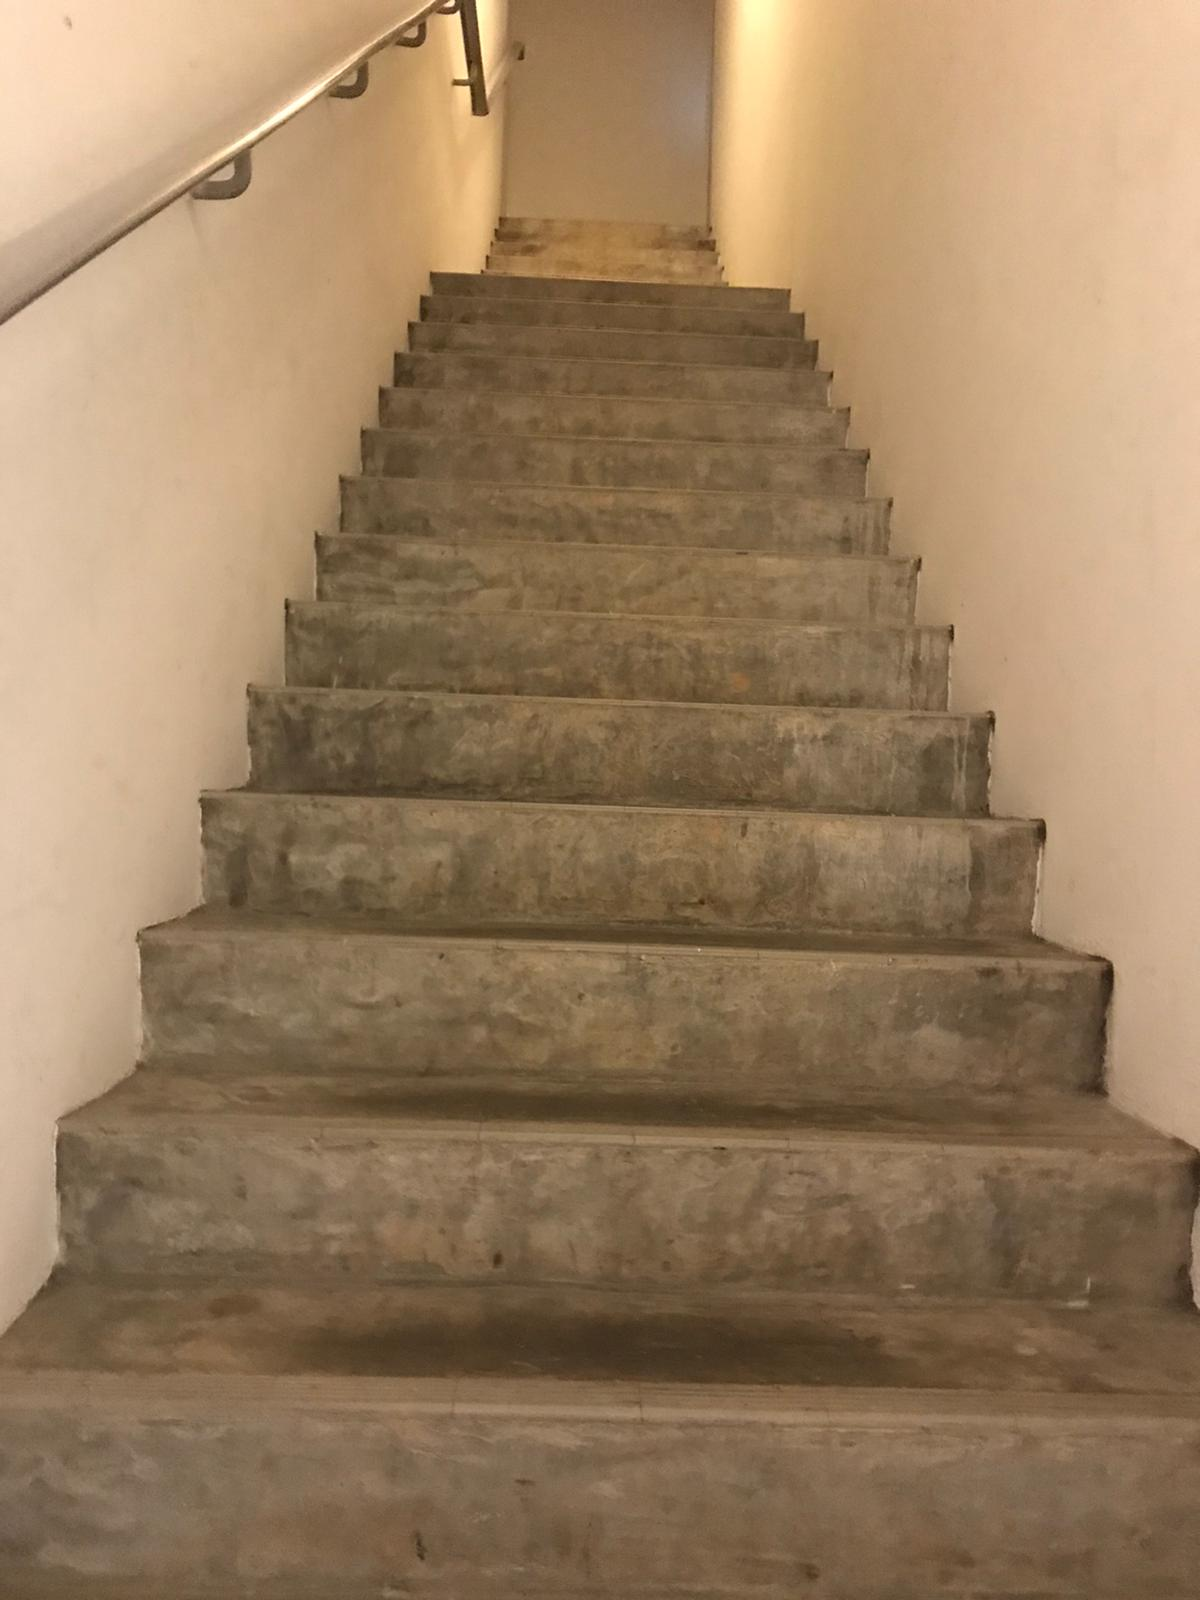upstairs: (171, 673, 1103, 1571)
